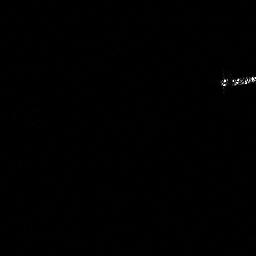ship: (217, 74, 256, 89)
